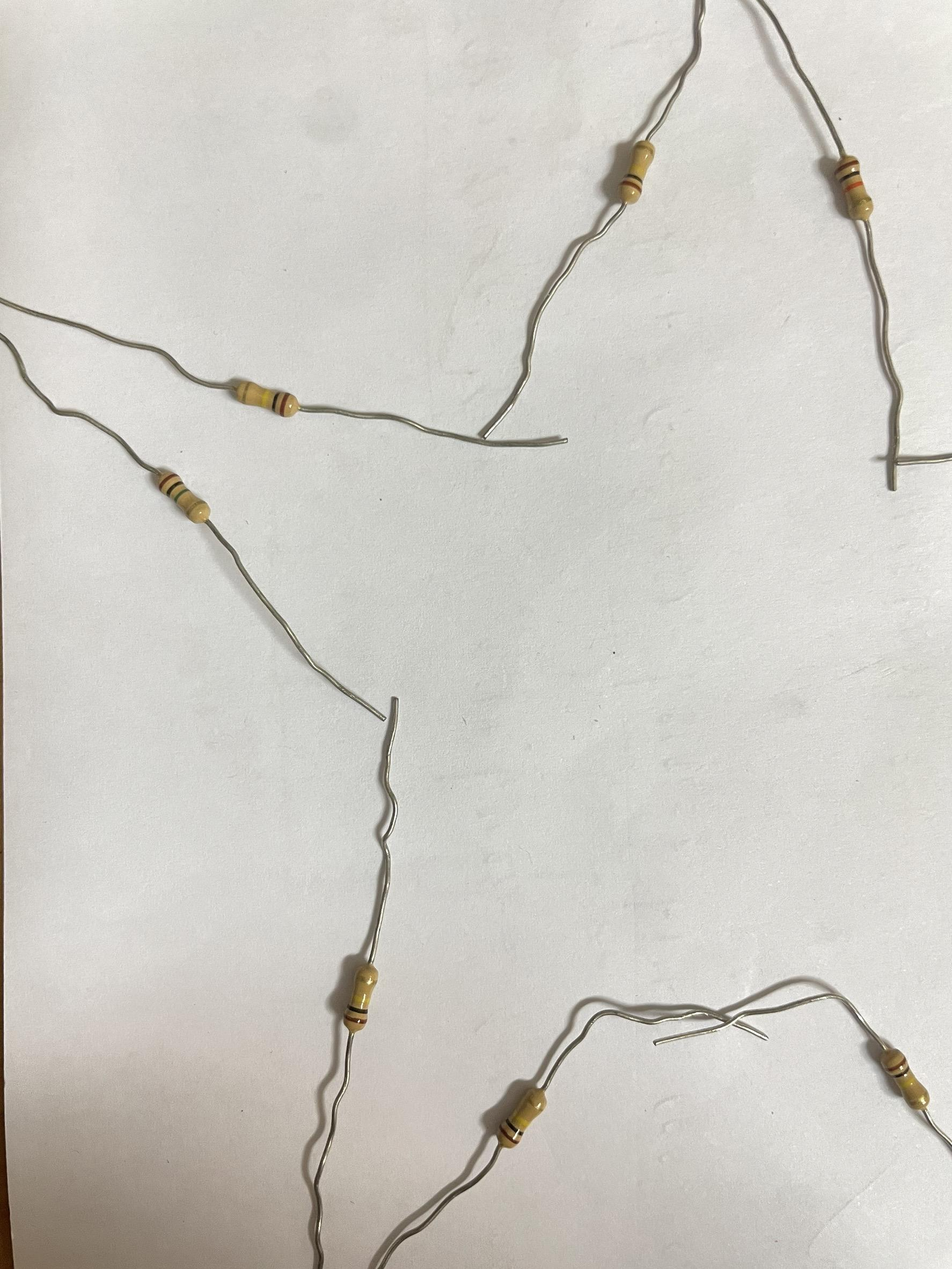resistor: (874, 1040, 934, 1117), (491, 1083, 555, 1154), (155, 468, 216, 527), (230, 374, 305, 419), (342, 961, 384, 1035), (833, 154, 875, 225), (616, 138, 659, 207)
